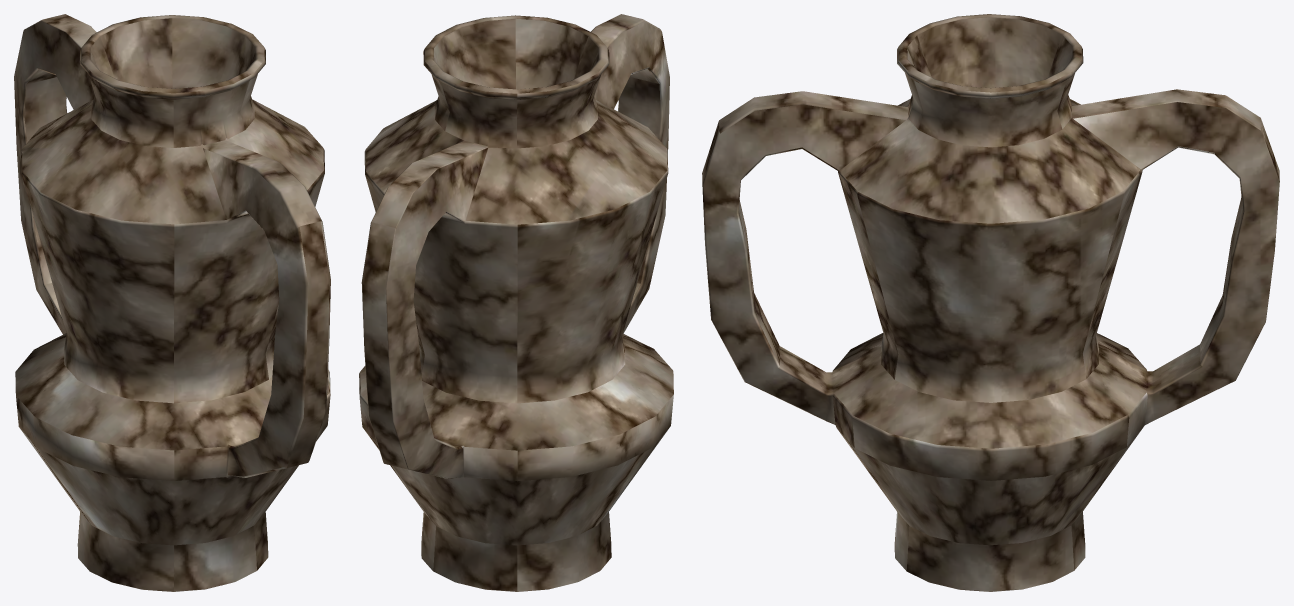
Rendered from Vase_02.glb.
3 views of the same model, side by side, from view 1: azimuth 30°, elevation 25°; view 2: azimuth 150°, elevation 25°; view 3: azimuth 270°, elevation 25° (orthographic).
Visible parts, largest first — view 1: SM_Vase_02; view 2: SM_Vase_02; view 3: SM_Vase_02.
Part boxes in pixels (box(x1,y1,x2,y2)): SM_Vase_02: box(14, 14, 330, 591); SM_Vase_02: box(359, 14, 673, 591); SM_Vase_02: box(702, 14, 1279, 591).
Bounding box in the file's own units: 0.1442 × 0.2494 × 0.2603.
Materials: 1 (1 with a texture image).
